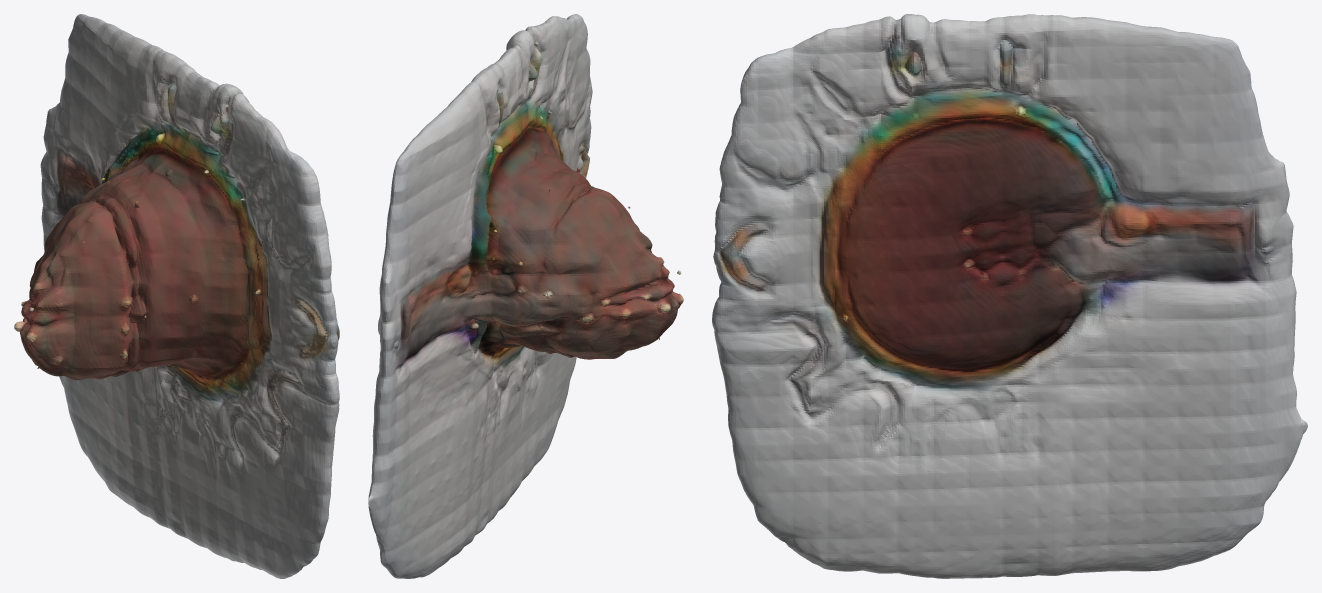
File: the-portal.glb
3 views of the same model, side by side, from view 1: azimuth 30°, elevation 25°; view 2: azimuth 150°, elevation 25°; view 3: azimuth 270°, elevation 25° (orthographic). The views are drawn at different scales.
Parts seen in each view (by area): view 1: world; view 2: world; view 3: world.
Boxes of the visible parts, x1,y1,x2,y2 form: world: (14, 14, 339, 578); world: (368, 14, 683, 578); world: (712, 14, 1307, 578).
Bounding box in the file's own units: 0.4552 × 0.9566 × 0.9227.
